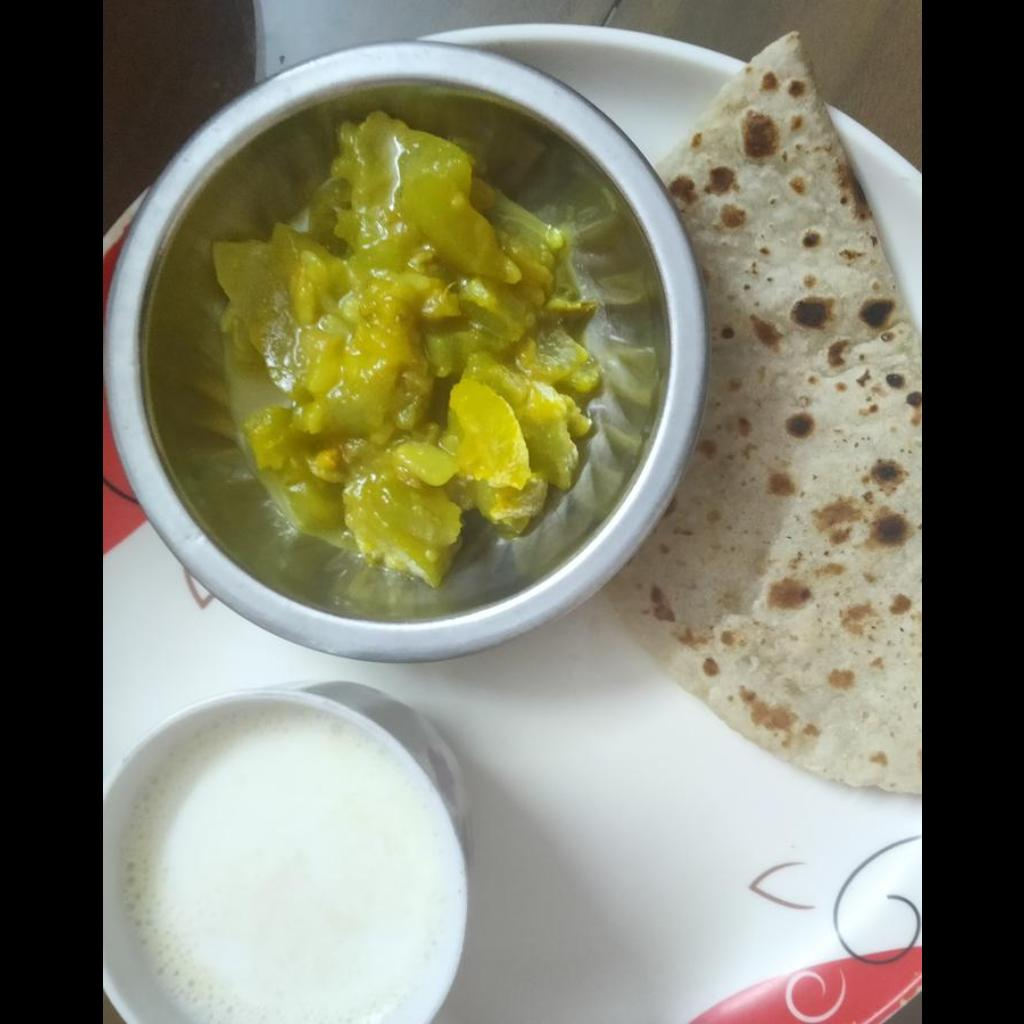milk: (122, 711, 436, 1019)
ruti: (608, 30, 920, 793)
vegetable: (212, 120, 592, 580)
